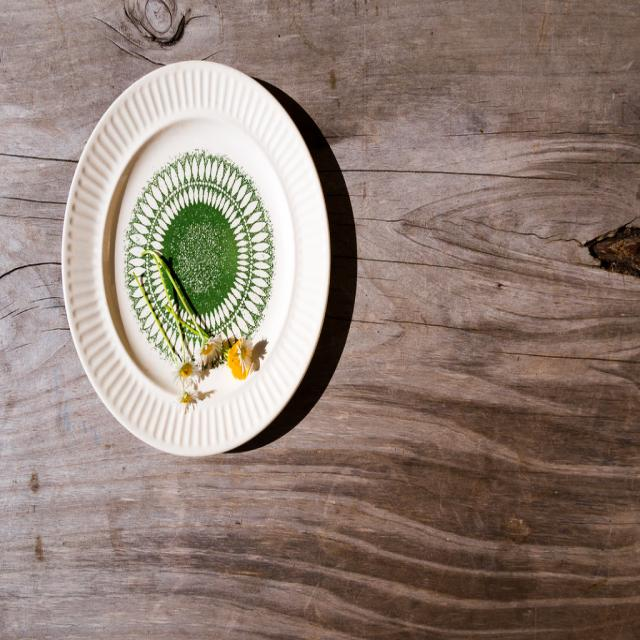non-organic waste: (59, 61, 335, 466)
